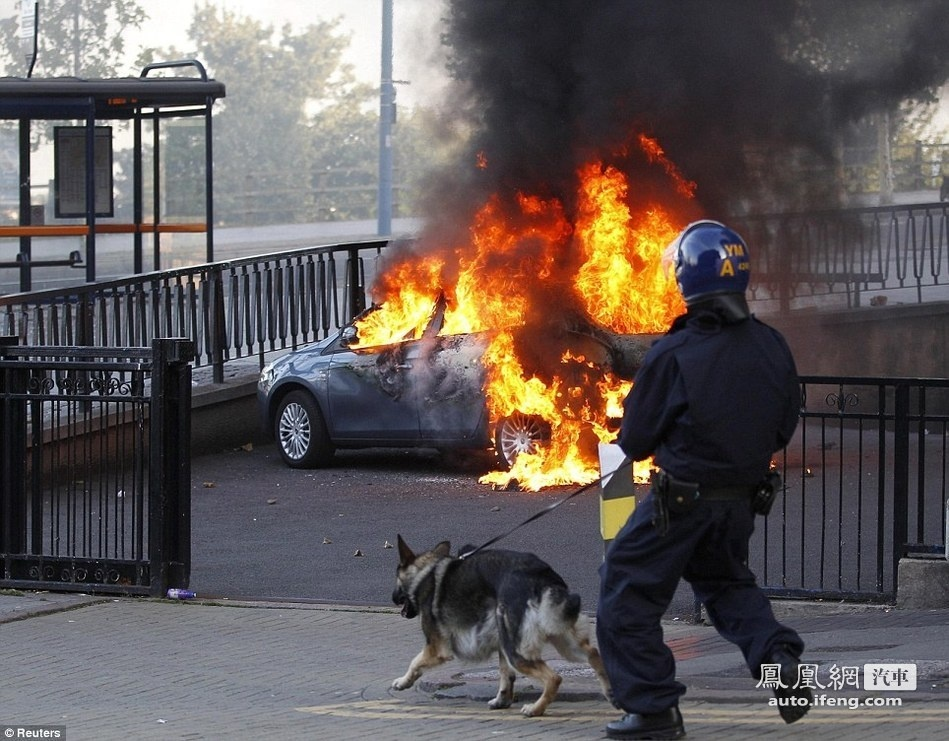fire: (349, 153, 676, 485)
